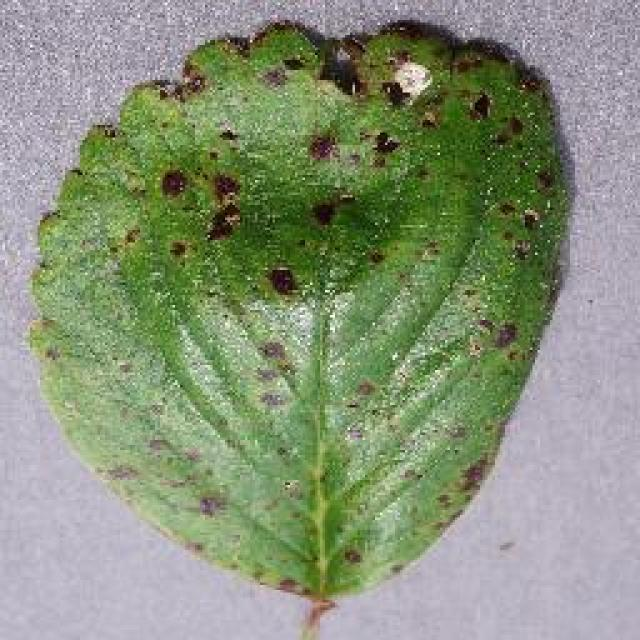Strawberry leaf scorch: (33, 65, 585, 487)
